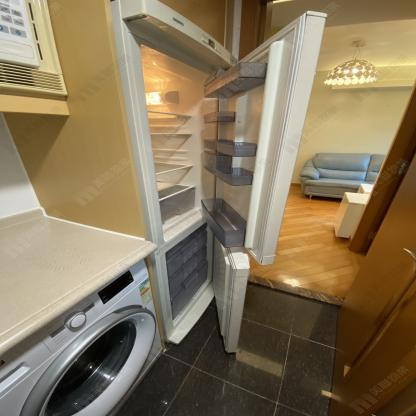Fridge: (106, 0, 328, 357)
Washing Machine: (0, 256, 165, 416)
